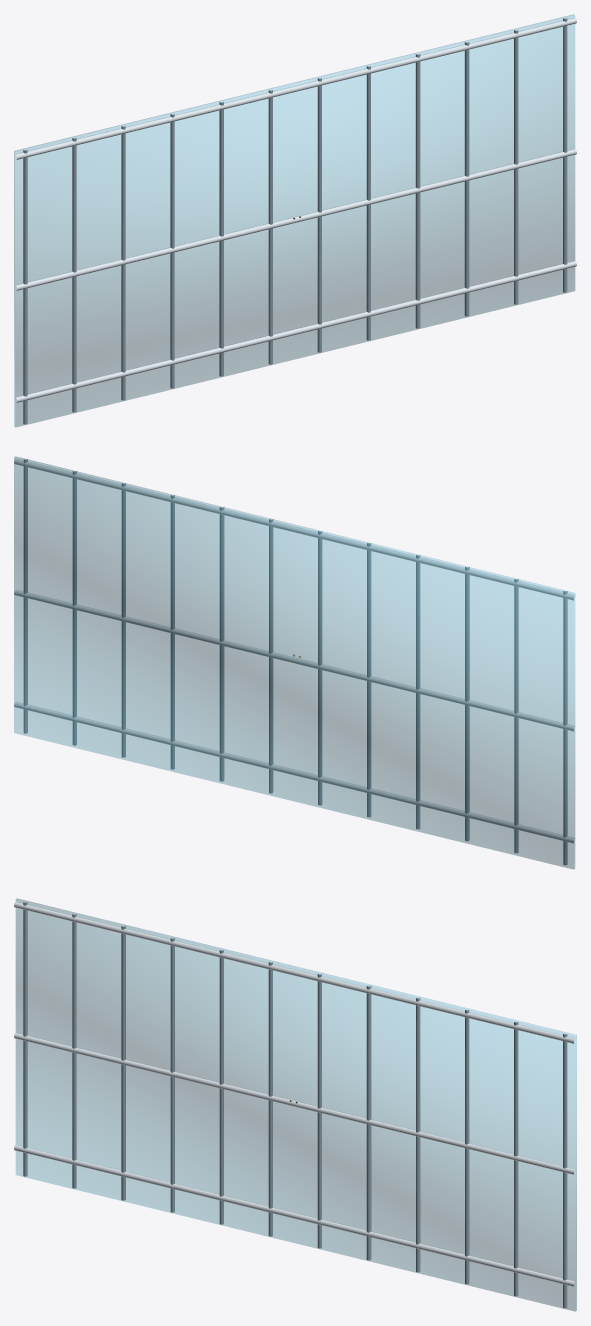
File: 01_L92_PanoramicKhepri7ObservationWindow.glb
3 renders of one model, top to bottom at view 1: azimuth 30°, elevation 25°; view 2: azimuth 150°, elevation 25°; view 3: azimuth 330°, elevation 25°, orthographic.
Parts seen in each view (by area): view 1: L92_PanoramicKhepri7Observati_Part_0000, L92_PanoramicKhepri7Observati_Part_0001, L92_PanoramicKhepri7Observati_Part_0002; view 2: L92_PanoramicKhepri7Observati_Part_0000, L92_PanoramicKhepri7Observati_Part_0001, L92_PanoramicKhepri7Observati_Part_0002; view 3: L92_PanoramicKhepri7Observati_Part_0000, L92_PanoramicKhepri7Observati_Part_0001, L92_PanoramicKhepri7Observati_Part_0002.
Boxes of the visible parts, x1,y1,x2,y2 form: L92_PanoramicKhepri7Observati_Part_0000: (14,14,574,427); L92_PanoramicKhepri7Observati_Part_0001: (23,18,567,424); L92_PanoramicKhepri7Observati_Part_0002: (15,18,576,402); L92_PanoramicKhepri7Observati_Part_0000: (14,456,574,869); L92_PanoramicKhepri7Observati_Part_0001: (23,459,567,865); L92_PanoramicKhepri7Observati_Part_0002: (14,458,575,843); L92_PanoramicKhepri7Observati_Part_0000: (16,898,576,1311); L92_PanoramicKhepri7Observati_Part_0001: (23,902,567,1308); L92_PanoramicKhepri7Observati_Part_0002: (14,902,575,1286).
Bounding box in the file's own units: 34 × 16 × 0.372.
